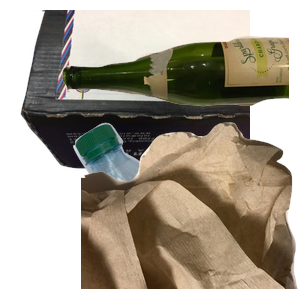cardboard: (18, 10, 258, 171)
glass: (60, 34, 300, 133)
plastic: (71, 120, 300, 300)
trash: (81, 120, 300, 300)
